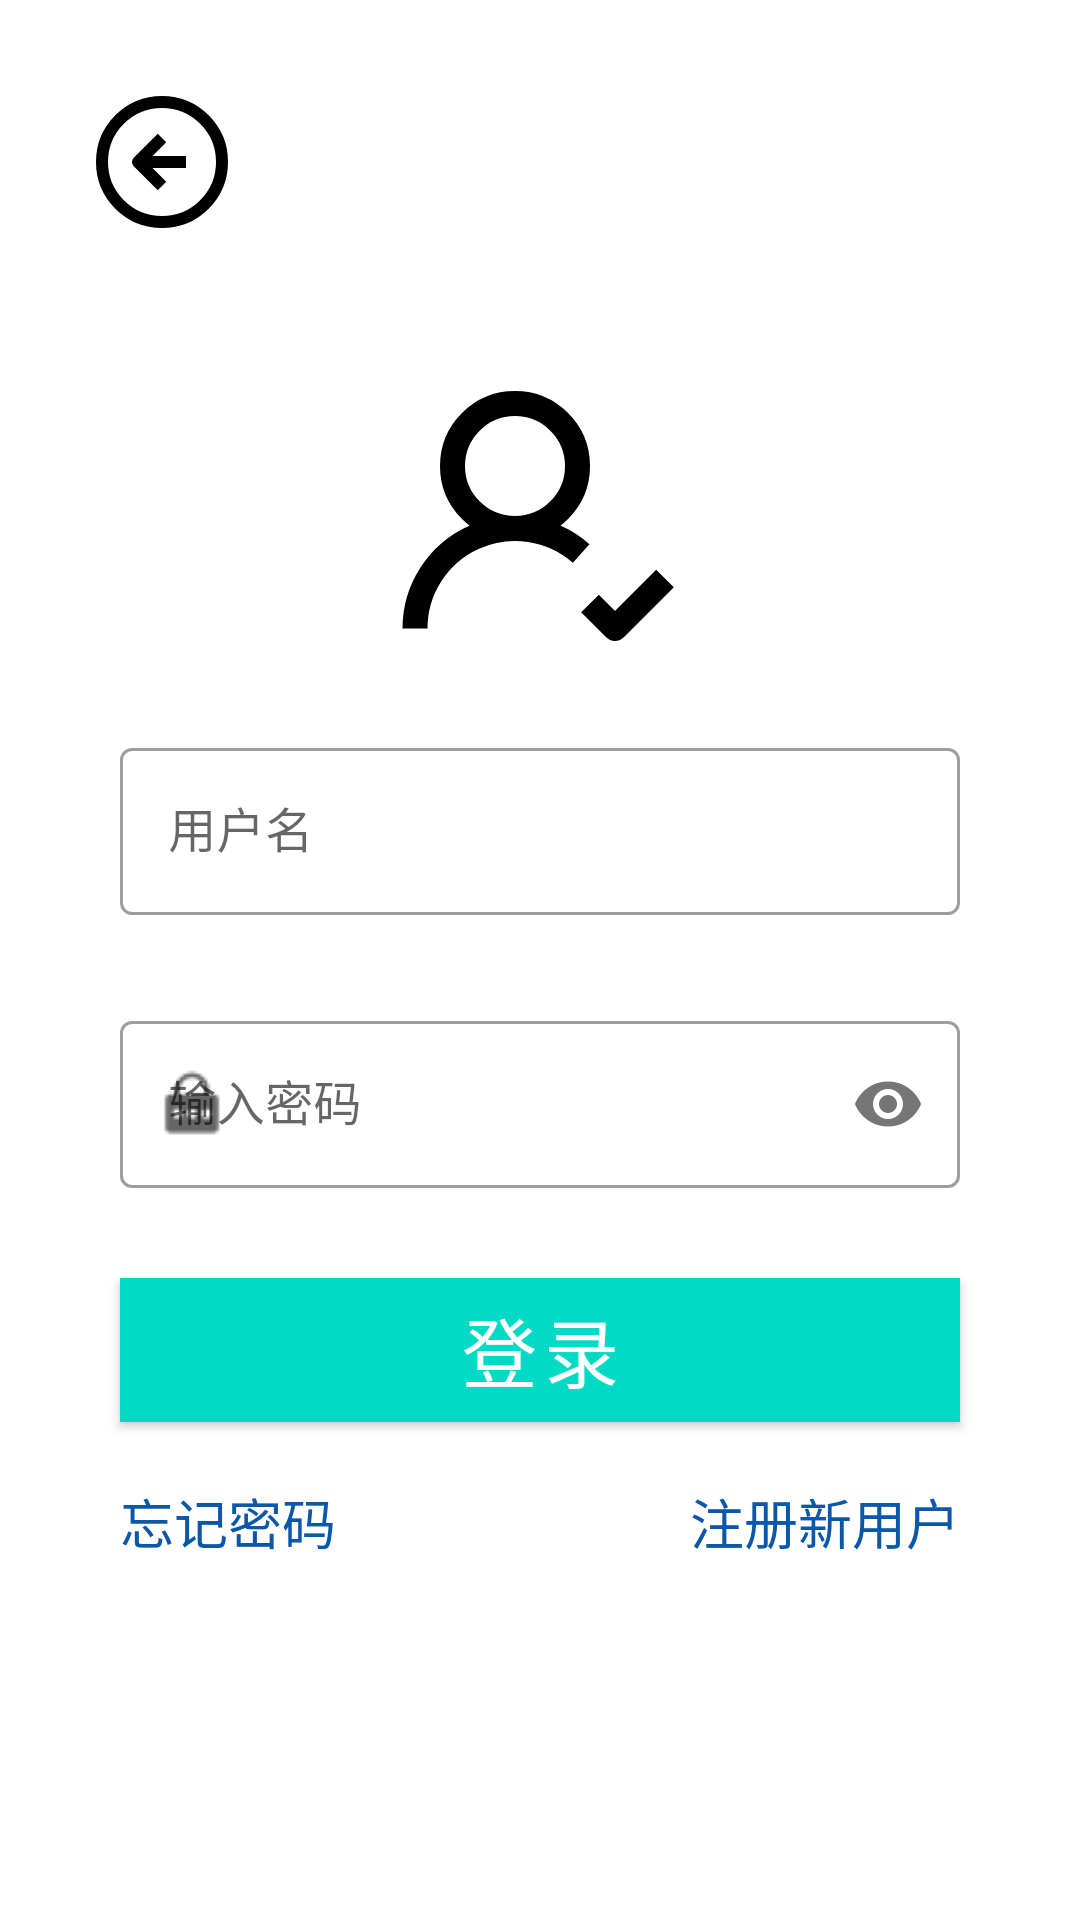

Icon bounding boxes for this 1080x1920 phone screenshot, format (x1, y1, x2, y2):
back: (96, 96, 228, 228)
login: (402, 391, 674, 641)
